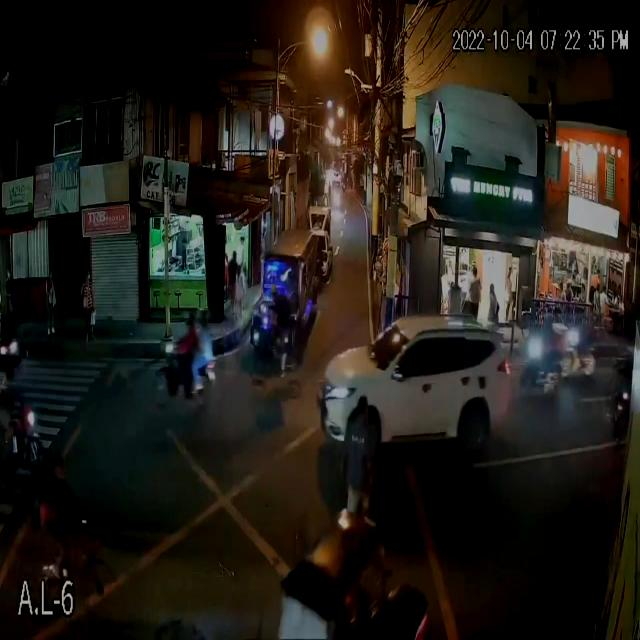Full-Faced: (179, 304, 198, 330), (196, 297, 208, 324)
Not-Wearing-Helmet: (47, 446, 71, 487)
